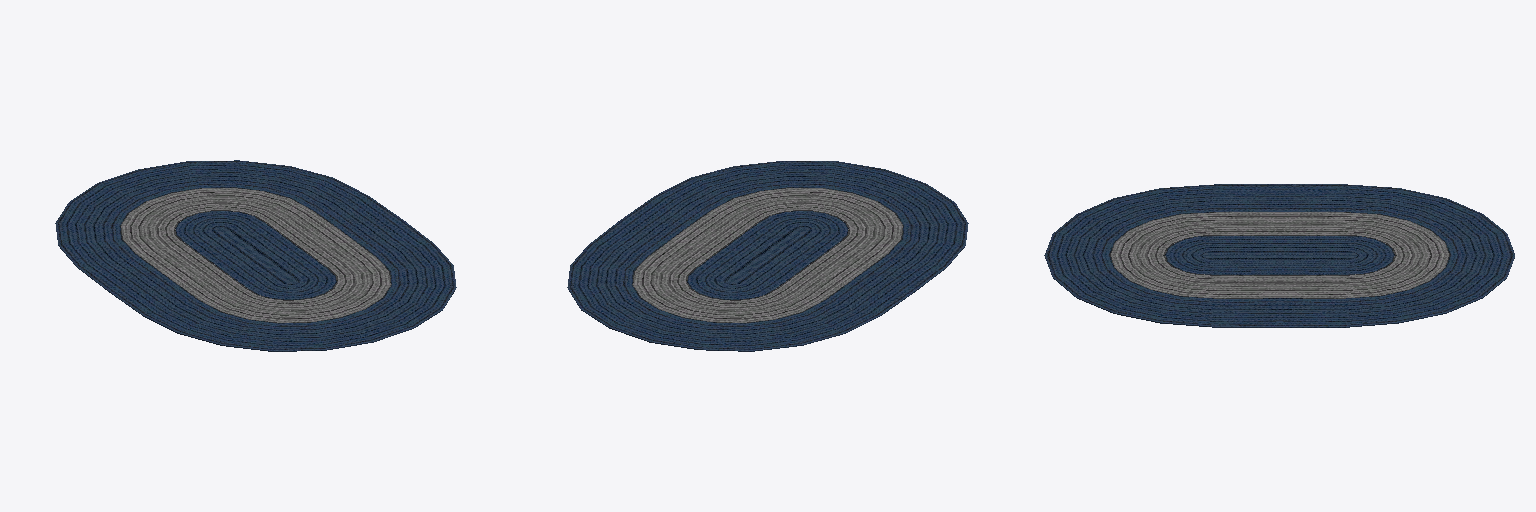
3 views of the same model, side by side, from view 1: azimuth 30°, elevation 25°; view 2: azimuth 150°, elevation 25°; view 3: azimuth 270°, elevation 25° (orthographic).
Parts seen in each view (by area): view 1: carpet; view 2: carpet; view 3: carpet.
Part boxes in pixels (bbox=[...]): carpet: bbox=[55, 160, 456, 351]; carpet: bbox=[567, 161, 968, 351]; carpet: bbox=[1044, 184, 1514, 327].
Bounding box in the file's own units: 8.67 × 0.0619 × 12.05.
2 materials, 2 textured.